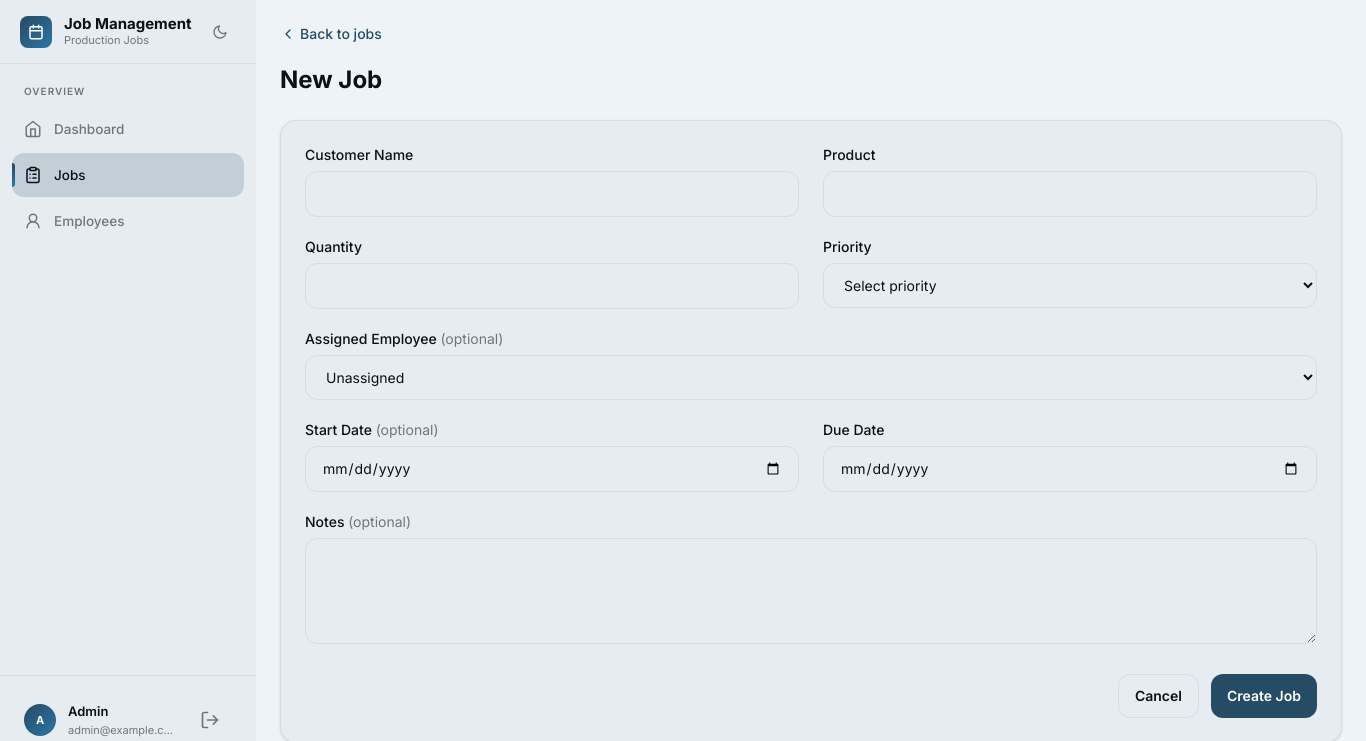
Test case: new job form › shows field errors for an empty form and sends nothing
This screenshot has width=1366, height=741.
Click the button "Create Job" at {"x": 1264, "y": 696}, box [1211,674,1317,718]
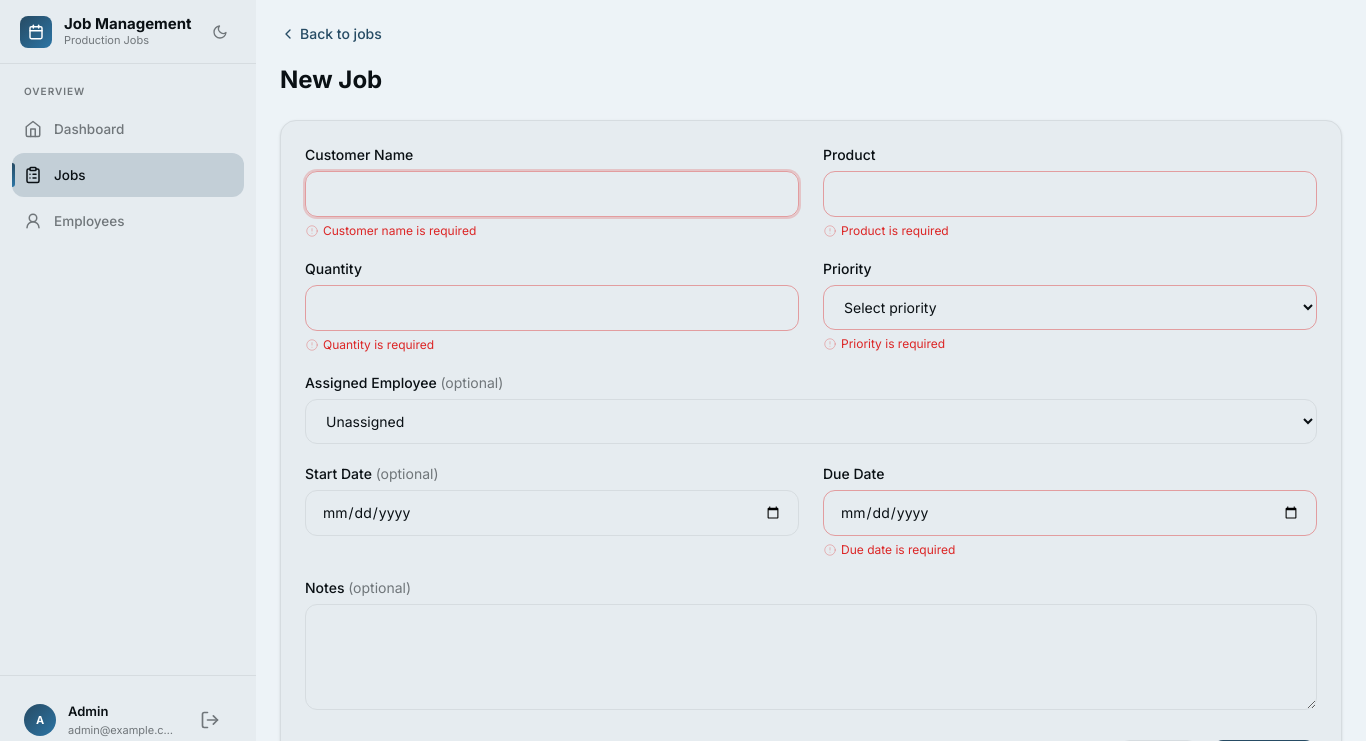
Now the text "Customer name is required" is shown, box [305,223,476,238]
Now the text "Product is required" is shown, box [823,223,949,238]
Now the text "Quantity is required" is shown, box [305,337,434,352]
